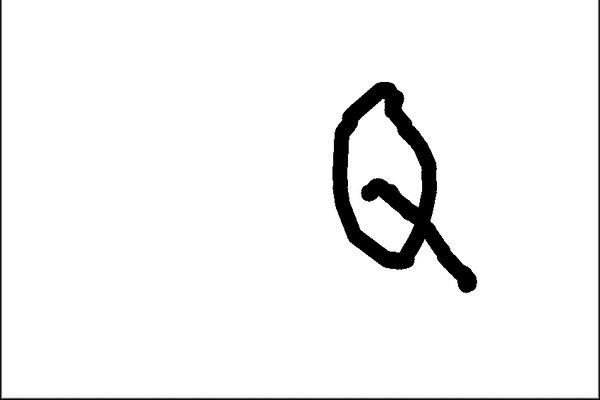Q: (317, 72, 481, 300)
